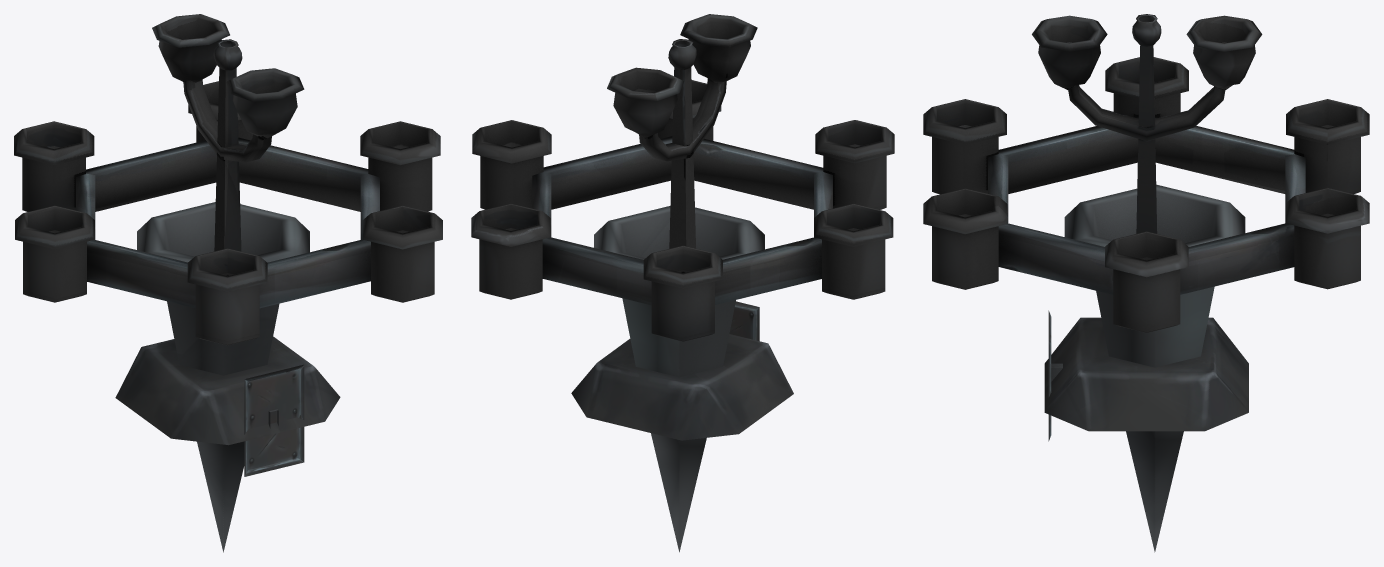
Rendered from Obj_candelabro.fbx.
3 renders of one model, left to right at view 1: azimuth 30°, elevation 25°; view 2: azimuth 150°, elevation 25°; view 3: azimuth 270°, elevation 25°, orthographic. The views are drawn at different scales.
Visible parts, largest first — view 1: Obj_candelabro_grande, Obj_candelabro_muro; view 2: Obj_candelabro_grande, Obj_candelabro_muro; view 3: Obj_candelabro_grande, Obj_candelabro_muro.
Boxes of the visible parts, x1,y1,x2,y2 form: Obj_candelabro_grande: (14,14,442,445); Obj_candelabro_muro: (137,202,309,552); Obj_candelabro_grande: (471,14,894,440); Obj_candelabro_muro: (594,206,764,552); Obj_candelabro_grande: (923,14,1369,431); Obj_candelabro_muro: (1048,184,1245,552).
Bounding box in the file's own units: 0.6111 × 0.7023 × 0.5311.
